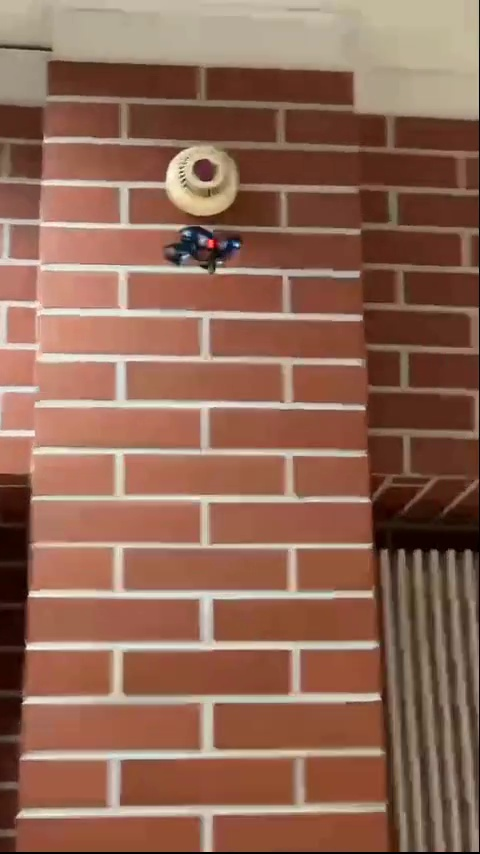drone: (165, 222, 239, 274)
